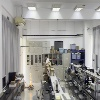fire: (29, 73, 32, 87)
